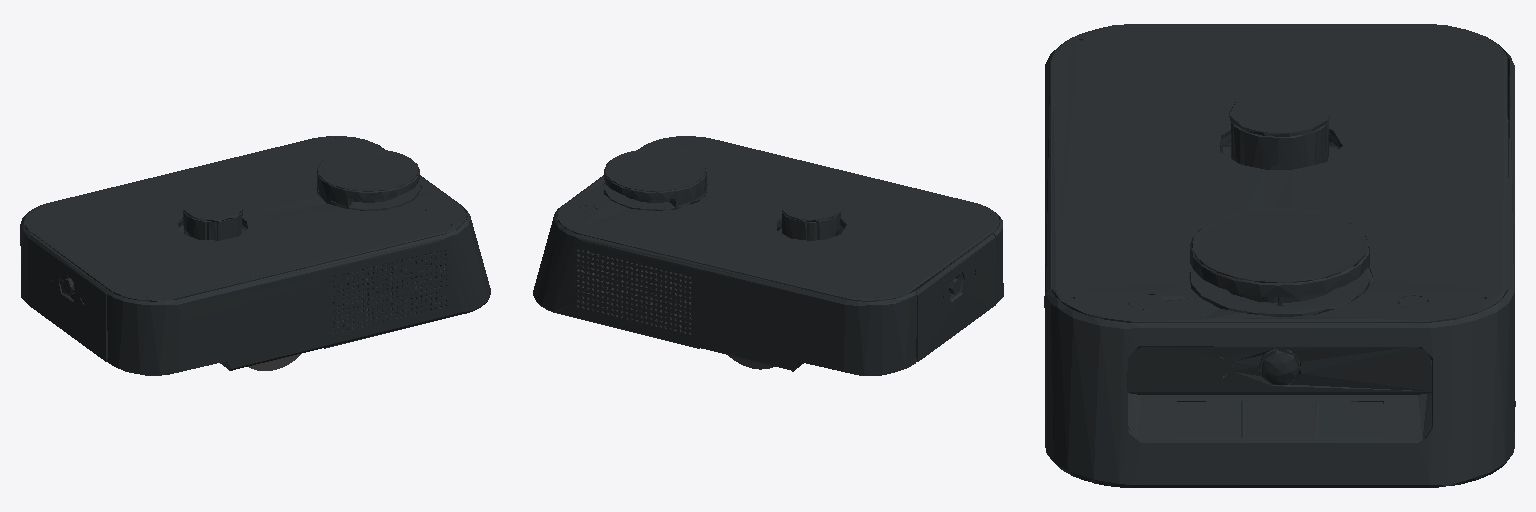
robot.urdf — kachaka:
<?xml version="1.0" ?>
<!-- =================================================================================== -->
<!-- |    This document was autogenerated by xacro from kachaka.urdf.xacro             | -->
<!-- |    EDITING THIS FILE BY HAND IS NOT RECOMMENDED                                 | -->
<!-- =================================================================================== -->
<robot name="kachaka">
  <material name="body">
    <color rgba="0.2175 0.2355 0.246 1.0"/>
  </material>
  <material name="tire">
    <color rgba="0.3 0.3 0.3 1.0"/>
  </material>
  <material name="black">
    <color rgba="0.0 0.0 0.0 1.0"/>
  </material>

  <link name="base_footprint"/>
  <!-- base_footprint -->
  <joint name="base_footprint_joint" type="fixed">
    <parent link="base_footprint"/>
    <child link="base_link"/>
  </joint>

  <link name="base_link">
    <inertial>
      <mass value="6.4"/>
      <origin rpy="0 0 0" xyz="0 0 0"/>
      <inertia ixx="2.1342e-02" ixy="0" ixz="0" iyy="2.1342e-02" iyz="0" izz="4.2667e-02"/>
    </inertial>
    <visual>
      <origin rpy="0 0 0" xyz="-0.150 -0.120 0.0"/>
      <geometry>
        <mesh filename="kachaka_description/meshes/kachaka/body2.stl"/>
      </geometry>
      <material name="body"/>
    </visual>
    <collision>
      <origin rpy="0 0 0" xyz="0.0435 0.0 0.1"/>
      <geometry>
        <box size="0.387 0.240 0.095"/>
      </geometry>
      <material name="body"/>
    </collision>
  </link>

  <!-- Wheel(right) -->
  <joint name="base_r_drive_wheel_joint" type="continuous">
    <parent link="base_link"/>
    <child link="base_r_drive_wheel_link"/>
    <origin rpy="0 0 0" xyz="0.0 -0.100 0.045"/>
    <axis xyz="0 1 0"/>
    <limit effort="100" velocity="10"/>
  </joint>

  <link name="base_r_drive_wheel_link">
    <inertial>
      <mass value="0.2"/>
      <origin rpy="0 0 0" xyz="0 0 0"/>
      <inertia ixx="0.001" ixy="0" ixz="0" iyy="0.001" iyz="0" izz="0.001"/>
    </inertial>
    <visual>
      <!-- <origin rpy="0 0 0" xyz="0 0 0"/>
      <geometry>
        <mesh filename="kachaka_description/meshes/kachaka/right_tire.stl" scale="1.0 1.0 1.0"/>
      </geometry> -->
      <origin rpy="1.5707963267948966 0 0" xyz="0 0 0"/>
      <geometry>
        <cylinder length="0.025" radius="0.045"/>
      </geometry>
      <material name="tire"/>
    </visual>
    <collision>
      <origin rpy="1.5707963267948966 0 0" xyz="0 0 0"/>
      <geometry>
        <cylinder length="0.025" radius="0.045"/>
      </geometry>
      <material name="tire"/>
    </collision>
  </link>
  <link name="laser_frame">
    <inertial>
      <mass value="0.2"/>
      <origin rpy="0 0 0" xyz="0 0 0"/>
      <inertia ixx="0.001" ixy="0" ixz="0" iyy="0.001" iyz="0" izz="0.001"/>
    </inertial>
  </link>

  <!-- Wheel(left) -->
  <joint name="base_l_drive_wheel_joint" type="continuous">
    <parent link="base_link"/>
    <child link="base_l_drive_wheel_link"/>
    <origin rpy="0 0 0" xyz="0.0 0.100 0.045"/>
    <axis xyz="0 1 0"/>
    <limit effort="100" velocity="10"/>
  </joint>

  <link name="base_l_drive_wheel_link">
    <inertial>
      <mass value="0.2"/>
      <origin rpy="0 0 0" xyz="0 0 0"/>
      <inertia ixx="0.001" ixy="0" ixz="0" iyy="0.001" iyz="0" izz="0.001"/>
    </inertial>
    <visual>
      <!-- <origin rpy="0 0 0" xyz="0 0 0"/>
      <geometry>
        <mesh filename="kachaka_description/meshes/kachaka/left_tire.stl" scale="1.0 1.0 1.0"/>
      </geometry> -->
      <origin rpy="1.5707963267948966 0 0" xyz="0 0 0"/>
      <geometry>
        <cylinder length="0.025" radius="0.045"/>
      </geometry>
      <material name="tire"/>
    </visual>
    <collision>
      <origin rpy="1.5707963267948966 0 0" xyz="0 0 0"/>
      <geometry>
        <cylinder length="0.025" radius="0.045"/>
      </geometry>
      <material name="tire"/>
    </collision>
  </link>
  <!-- 2D LiDAR -->
  <joint name="lidar_joint" type="fixed">
    <parent link="base_link"/>
    <child link="laser_frame"/>
    <origin rpy="0 0 1.5707963267948966" xyz="0.156 0 0.1049"/>
  </joint>

  <!-- Camera(front) -->
  <joint name="camera_front_joint" type="fixed">
    <parent link="base_link"/>
    <child link="camera_front_link"/>
    <origin rpy="-1.5707963267948966 0 -1.5707963267948966" xyz="0.20959999999999998 0 0.070"/>
  </joint>

  <link name="camera_front_link">
    <inertial>
      <mass value="0.2"/>
      <origin rpy="0 0 0" xyz="0 0 0"/>
      <inertia ixx="0.001" ixy="0" ixz="0" iyy="0.001" iyz="0" izz="0.001"/>
    </inertial>
  </link>

  <!-- Camera(back) -->
   <joint name="camera_back_joint" type="fixed">
    <parent link="base_link"/>
    <child link="camera_back_link"/>
    <origin rpy="-1.5707963267948966 0 1.5707963267948966" xyz="-0.13999999999999999 0 0.070"/>
  </joint>

   <link name="camera_back_link">
    <inertial>
      <mass value="0.2"/>
      <origin rpy="0 0 0" xyz="0 0 0"/>
      <inertia ixx="0.001" ixy="0" ixz="0" iyy="0.001" iyz="0" izz="0.001"/>
    </inertial>
  </link>


  <!-- ToF camera -->

  <joint name="tof_joint" type="fixed">
    <parent link="base_link"/>
    <child link="tof_link"/>
    <origin rpy="-0.7853981633974483 0 -1.5707963267948966" xyz="0.221 0.0 0.0418"/>
  </joint>

  <link name="tof_link">
    <inertial>
      <mass value="0.2"/>
      <origin rpy="0 0 0" xyz="0 0 0"/>
      <inertia ixx="0.001" ixy="0" ixz="0" iyy="0.001" iyz="0" izz="0.001"/>
    </inertial>
  </link>

  <!-- Docking
  <joint name="docking_joint" type="prismatic">
    <parent link="base_link"/>
    <child link="docking_link"/>
    <axis xyz="0 0 1.0"/>
    <origin rpy="0 0 0" xyz="0 0 0"/>
    <limit effort="1.0" lower="0.0" upper="0.012" velocity="1.0"/>
  </joint>
  <link name="docking_link">
    <inertial>
      <mass value="0.2"/>
      <origin rpy="0 0 0" xyz="0 0 0.1075"/>
      <inertia ixx="3.5000000000000004e-05" ixy="0" ixz="0" iyy="3.5000000000000004e-05" iyz="0" izz="6.250000000000001e-05"/>
      <origin rpy="0 0 0" xyz="0 0 0"/>
      <inertia ixx="0.001" ixy="0" ixz="0" iyy="0.001" iyz="0" izz="0.001"/>
    </inertial>
    <visual>
      <origin rpy="0 0 0" xyz="0 0 0.073"/>
      <geometry>
        <mesh filename="achaka_description/meshes/kachaka/solenoid.stl" scale="1.0 1.0 1.0"/>
      </geometry>
      <material name="body"/>
    </visual>
    <collision>
      <origin rpy="0 0 0" xyz="0 0 0.1075"/>
      <geometry>
        <cylinder length="0.015" radius="0.025"/>
      </geometry>
      <material name="body"/>
    </collision>
  </link> -->

  <!-- IMU -->
  <link name="imu_link"/>
  <joint name="imu_joint" type="fixed">
    <parent link="base_link"/>
    <child link="imu_link"/>
    <origin rpy="0 0 0" xyz="0.0756 -0.0655 0.05146"/>
  </joint>
  
  <!-- sub_left_wheel -->
    <!-- X軸回転ジョイント（キャスターをベースリンクに接続） -->
    <!-- base_link から x軸回転用の中間リンクへ -->
    <joint name="caster_left_joint_x" type="continuous">
    <parent link="base_link"/>
    <child link="caster_x_link"/>
    <origin xyz="0.19 0.075 0.02" rpy="0 0 0"/>  <!-- 球体中心に一致（高さ0.02） -->
    <axis xyz="1 0 0"/>
    </joint>

    <link name="caster_x_link"/>

    <!-- Y軸回転 -->
    <joint name="caster_left_joint_y" type="continuous">
    <parent link="caster_x_link"/>
    <child link="caster_sphere_left"/>
    <origin xyz="0 0 0" rpy="0 0 0"/>
    <axis xyz="0 1 0"/>
    </joint>

    <!-- 球体リンク -->
    <link name="caster_sphere_left">
    <inertial>
        <origin xyz="0 0 0" rpy="0 0 0"/>
        <mass value="0.1"/>
        <inertia ixx="5e-4" iyy="5e-4" izz="5e-4" ixy="0" ixz="0" iyz="0"/>
    </inertial>
    <contact>
      <lateral_friction>0.1</lateral_friction>
      <spinning_friction>0.1</spinning_friction>
    </contact>
    <visual>
        <origin xyz="0 0 0" rpy="0 0 0"/>
        <geometry>
        <sphere radius="0.02"/>
        </geometry>
        <material name="gray"/>
    </visual>
    <collision>
        <origin xyz="0 0 0" rpy="0 0 0"/>
        <geometry>
        <sphere radius="0.02"/>
        </geometry>
        <surface>
        <friction>
            <ode>
            <mu>0.8</mu>
            <mu2>0.8</mu2>
            </ode>
        </friction>
        </surface>
    </collision>
    </link>

    <!-- sub_left_wheel -->
    <!-- X軸回転ジョイント（キャスターをベースリンクに接続） -->
    <!-- base_link から x軸回転用の中間リンクへ -->
    <joint name="caster_right_joint_x" type="continuous">
    <parent link="base_link"/>
    <child link="caster_y_link"/>
    <origin xyz="0.19 -0.075 0.02" rpy="0 0 0"/>  <!-- 球体中心に一致（高さ0.02） -->
    <axis xyz="1 0 0"/>
    </joint>

    <link name="caster_y_link"/>
    <!-- Y軸回転 -->
    <joint name="caster_right_joint_y" type="continuous">
    <parent link="caster_y_link"/>
    <child link="caster_sphere_right"/>
    <origin xyz="0 0 0" rpy="0 0 0"/>
    <axis xyz="0 1 0"/>
    </joint>

    <!-- 球体リンク -->
    <link name="caster_sphere_right">
    <inertial>
        <origin xyz="0 0 0" rpy="0 0 0"/>
        <mass value="1"/>
        <inertia ixx="5e-4" iyy="5e-4" izz="5e-4" ixy="0" ixz="0" iyz="0"/>
    </inertial>
    <contact>
      <lateral_friction>0.1</lateral_friction>
      <spinning_friction>0.1</spinning_friction>
    </contact>
    <visual>
        <origin xyz="0 0 0" rpy="0 0 0"/>
        <geometry>
        <sphere radius="0.02"/>
        </geometry>
        <material name="gray"/>
    </visual>
    <collision>
        <origin xyz="0 0 0" rpy="0 0 0"/>
        <geometry>
        <sphere radius="0.02"/>
        </geometry>
            <surface>
            <friction>
                <ode>
                <mu>0.8</mu>
                <mu2>0.8</mu2>
                </ode>
            </friction>
            </surface>
        </collision>
    </link>

</robot>

--- Render facts (derived) ---
The picture shows the robot from 3 angles, left to right: view 1: azimuth 30°, elevation 25°; view 2: azimuth 150°, elevation 25°; view 3: azimuth 270°, elevation 25°; orthographic projection.
Model kachaka with 13 links and 12 joints (6 continuous, 6 fixed), rooted at base_footprint, posed all joints at 0.
Links seen in each view (by area): view 1: base_link; view 2: base_link; view 3: base_link.
Link boxes in pixels (x1,y1,x2,y2): base_link: (20, 136, 490, 375); base_link: (533, 136, 1003, 375); base_link: (1044, 24, 1515, 487).
Bounding box of the posed robot: 0.3881 × 0.2401 × 0.113 m (x, y, z).
1 mesh visuals loaded from 1 distinct referenced files (1 binary STL).
